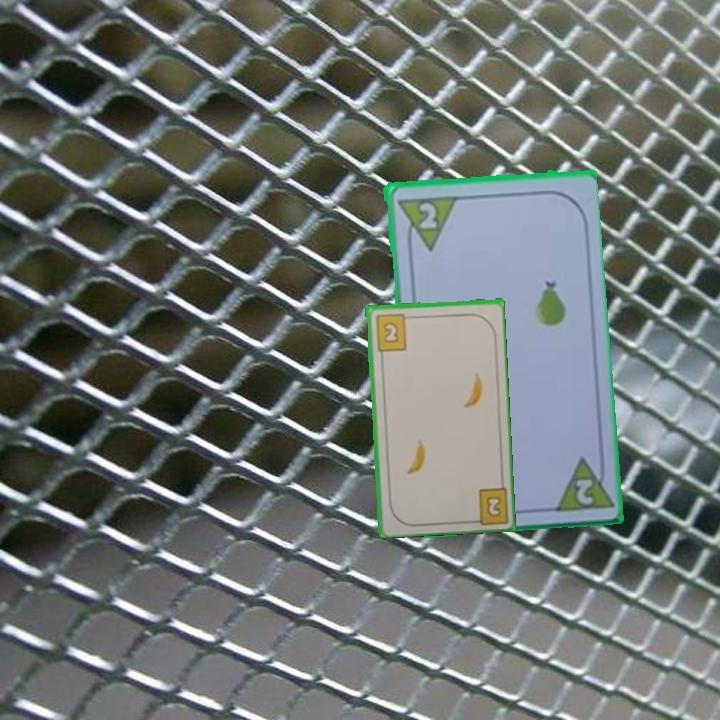2b: (466, 482, 510, 525), (372, 310, 414, 353)
2p: (548, 450, 613, 514), (393, 191, 457, 254)
